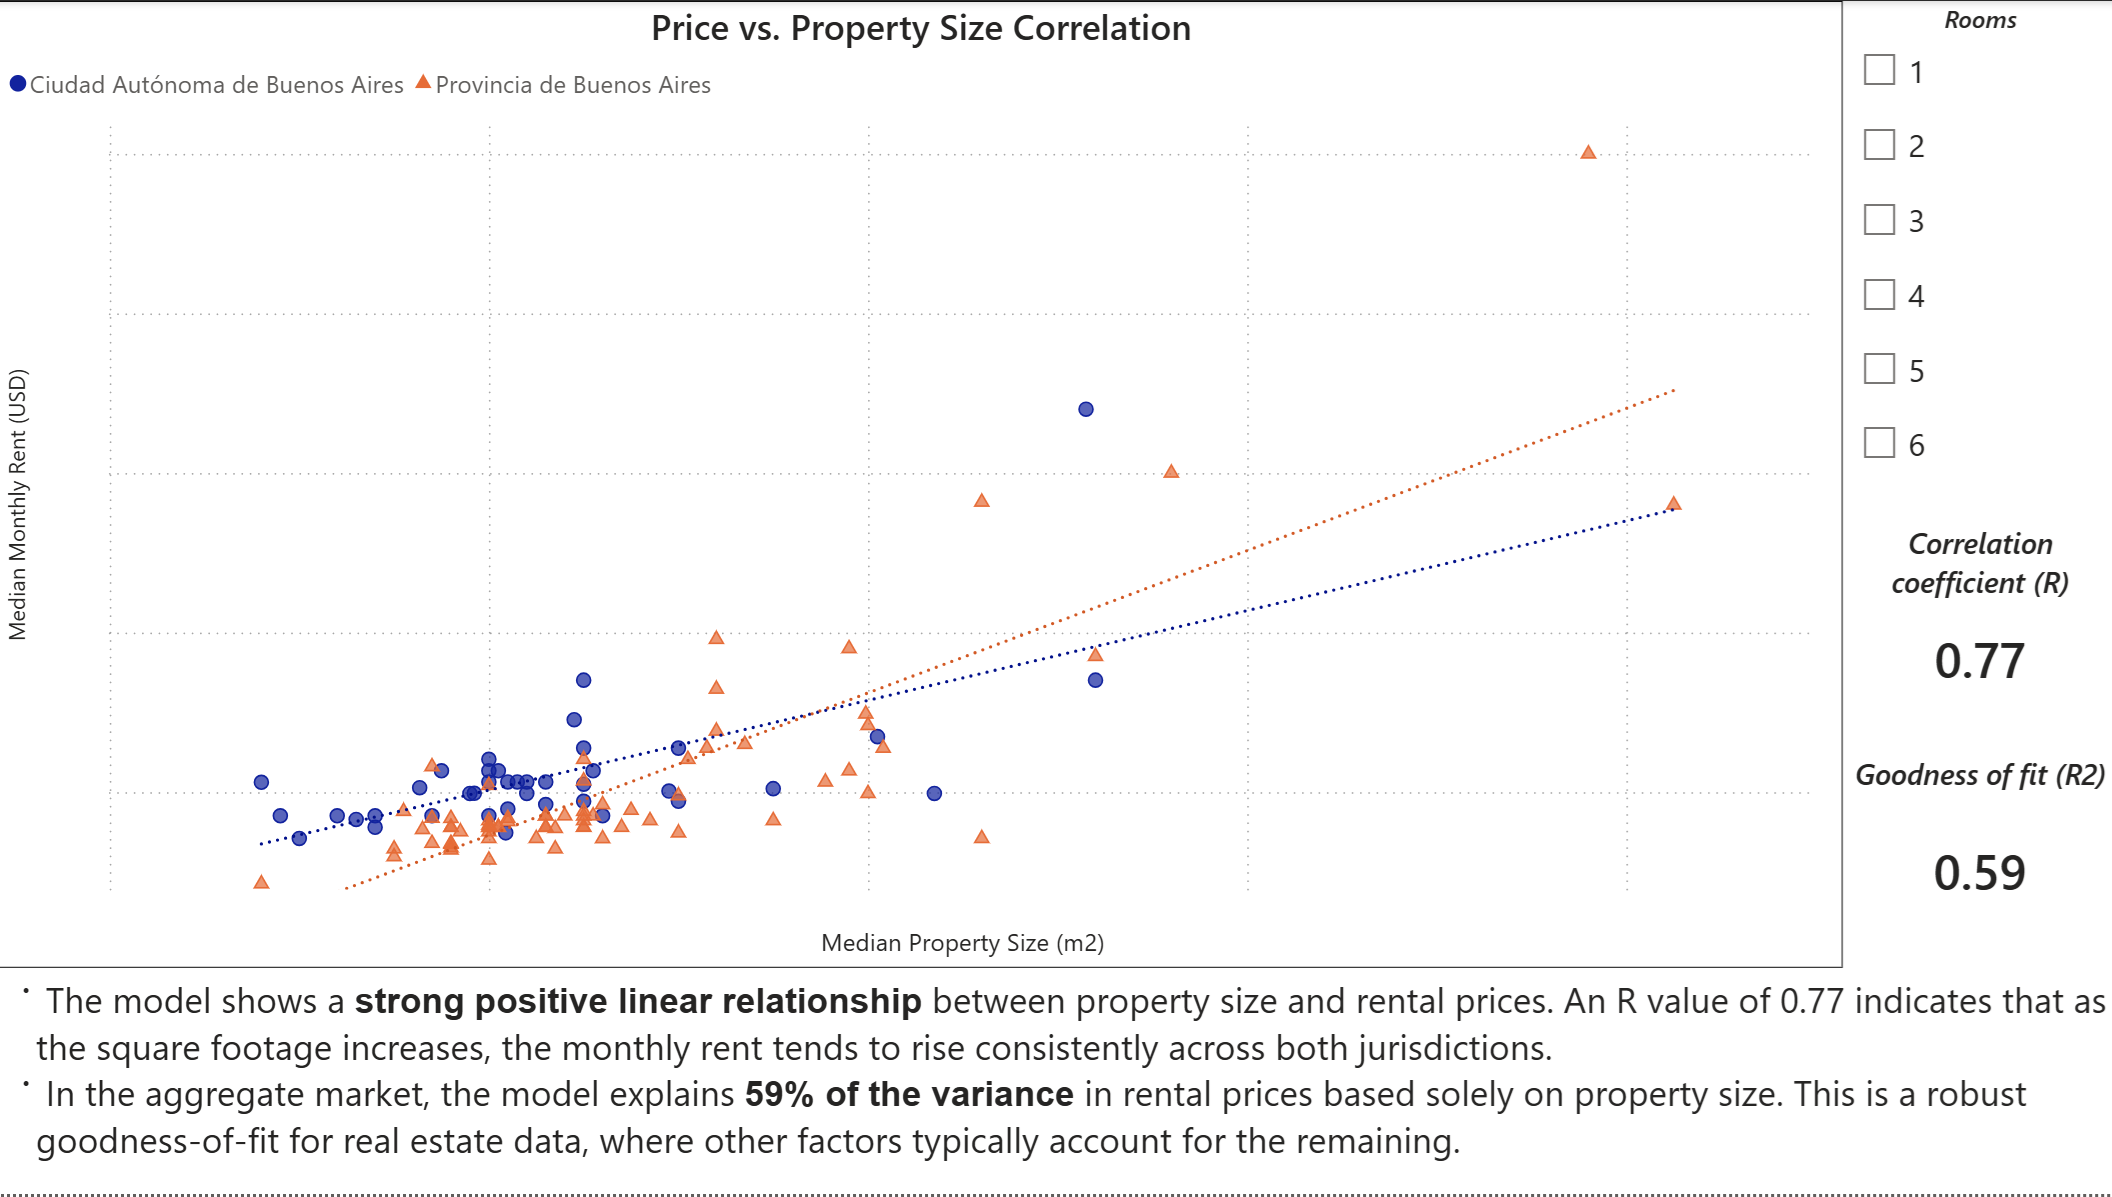

This screenshot's page, from the dashboard's own definition file:
{"tool":"powerbi","page":{"name":"Insights","canvas":[1280,720],"ordinal":1},"visuals":[{"type":"scatterChart","title":"Price vs. Property Size Correlation","fields":{"Category":["dfinal.neighborhood"],"X":["dfinal.Median_Property_m2"],"Y":["dfinal.Median_Monthly_Rent_usd"],"Series":["dfinal.state"]},"box":[0,0,1113.3,583.3],"z":0},{"type":"slicer","title":"Rooms","fields":{"Values":["dfinal.rooms"]},"box":[1113.3,0,166.7,314.4],"z":1000},{"type":"cardVisual","title":"Goodness of fit (R2)","fields":{"Data":["dfinal.corr2_en"]},"box":[1113.3,454.4,166.7,115.6],"z":2000},{"type":"cardVisual","title":"Correlation coefficient (R)","fields":{"Data":["dfinal.corr_en"]},"box":[1113.3,314.4,166.7,115.6],"z":3000},{"type":"textbox","box":[0,583.3,1280,136.7],"z":3001}]}

Visuals, with their boxes in screenshot pixels (x1, y1, x2, y2), scaled from the page's 1280x720 canvas onto the 2112x1197 screenshot:
"Price vs. Property Size Correlation" scatterChart: detection(0, 0, 1837, 970)
"Rooms" slicer: detection(1837, 0, 2111, 523)
"Goodness of fit (R2)" cardVisual: detection(1837, 755, 2111, 948)
"Correlation coefficient (R)" cardVisual: detection(1837, 523, 2111, 715)
textbox: detection(0, 970, 2111, 1196)
